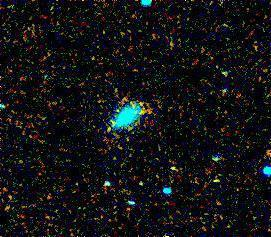star: (93, 113, 123, 143)
